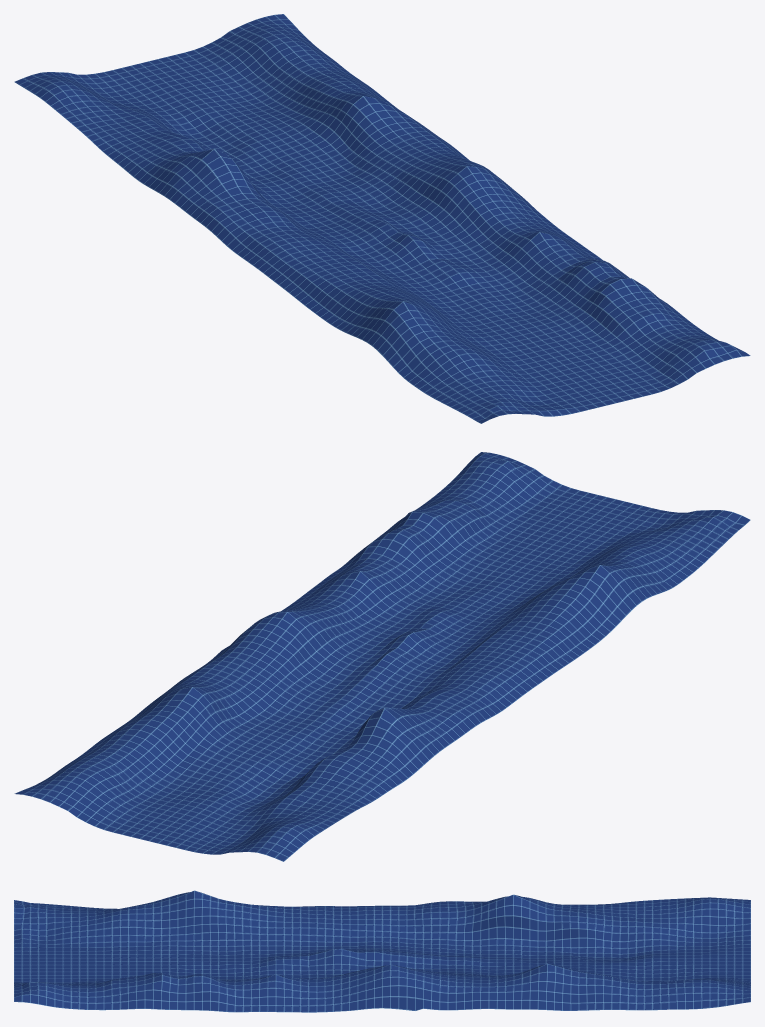
The model's file is Mountains_2.fbx.
3 views of the same model, one above another, from view 1: azimuth 30°, elevation 25°; view 2: azimuth 150°, elevation 25°; view 3: azimuth 270°, elevation 25° (orthographic). The views are drawn at different scales.
Visible parts, largest first — view 1: Mountains_2; view 2: Mountains_2; view 3: Mountains_2.
Boxes of the visible parts, x1=… form: Mountains_2: x1=14, y1=14, x2=750, y2=423; Mountains_2: x1=14, y1=452, x2=750, y2=861; Mountains_2: x1=14, y1=890, x2=750, y2=1012.
Bounding box in the file's own units: 100 × 299 × 18.35.
